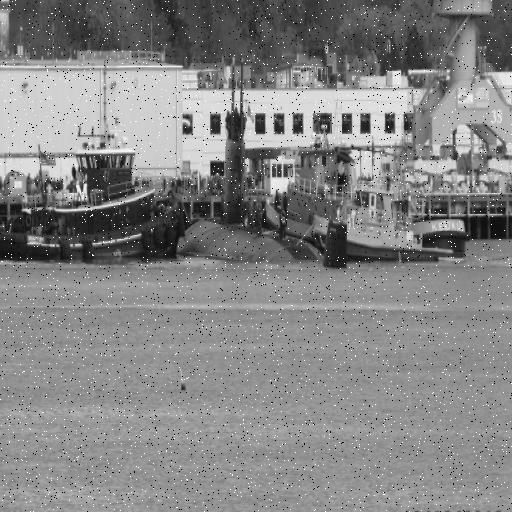submarine: (183, 61, 349, 269)
